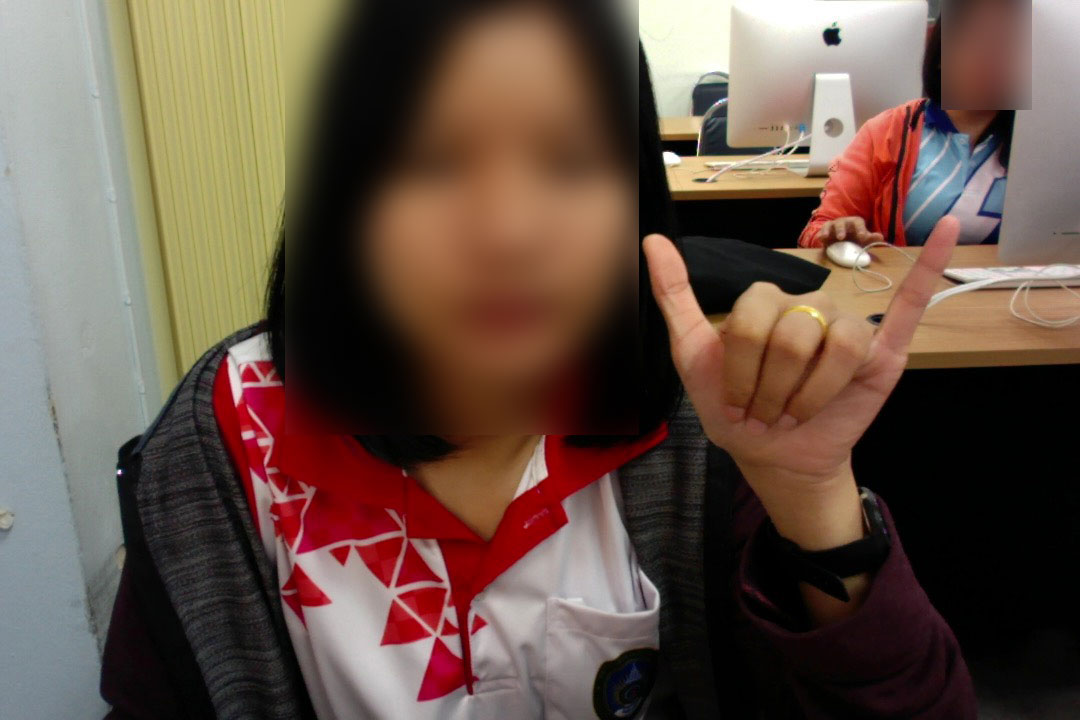yor: (634, 205, 966, 494)
